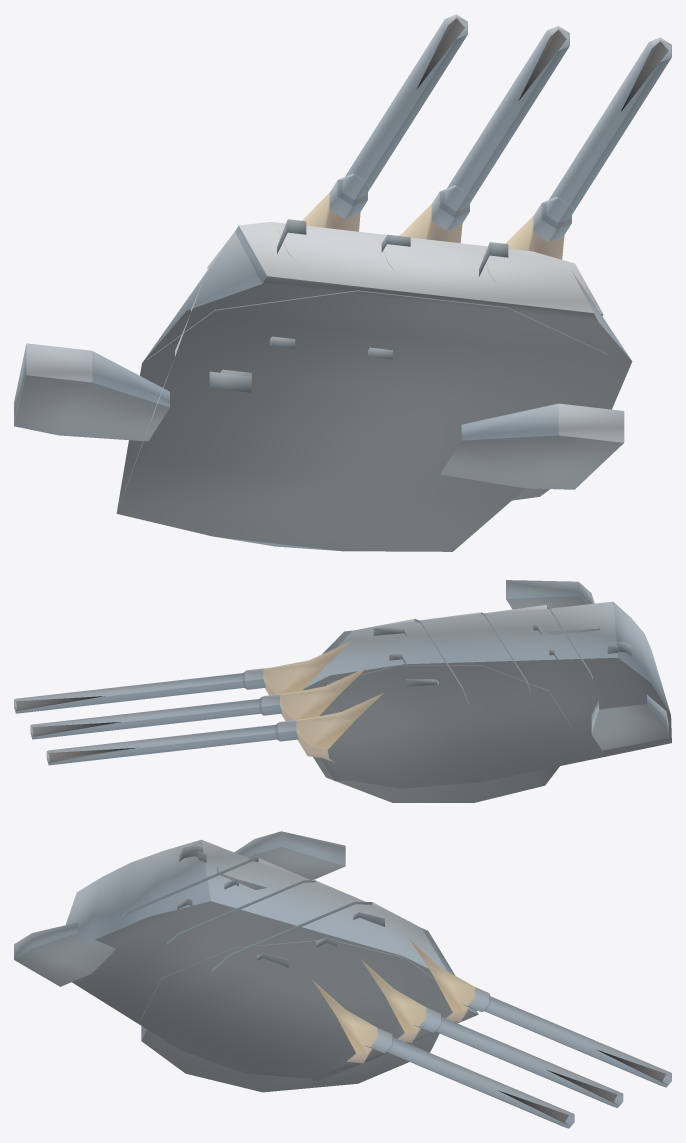
The model's file is ps2_save-icons_warshipgunner2.glb.
The picture shows the model from 3 angles, top to bottom: view 1: azimuth 30°, elevation 25°; view 2: azimuth 150°, elevation 25°; view 3: azimuth 270°, elevation 25°; orthographic projection. The views are drawn at different scales.
Visible parts, largest first — view 1: icon1.ico; view 2: icon1.ico; view 3: icon1.ico.
Part boxes in pixels (x1,y1,x2,y2): icon1.ico: (14, 14, 671, 551); icon1.ico: (14, 580, 671, 802); icon1.ico: (14, 831, 671, 1128).
Size of the model in its own units: 4.94 by 0.8608 by 4.94.
Materials: 1 (1 with a texture image).
